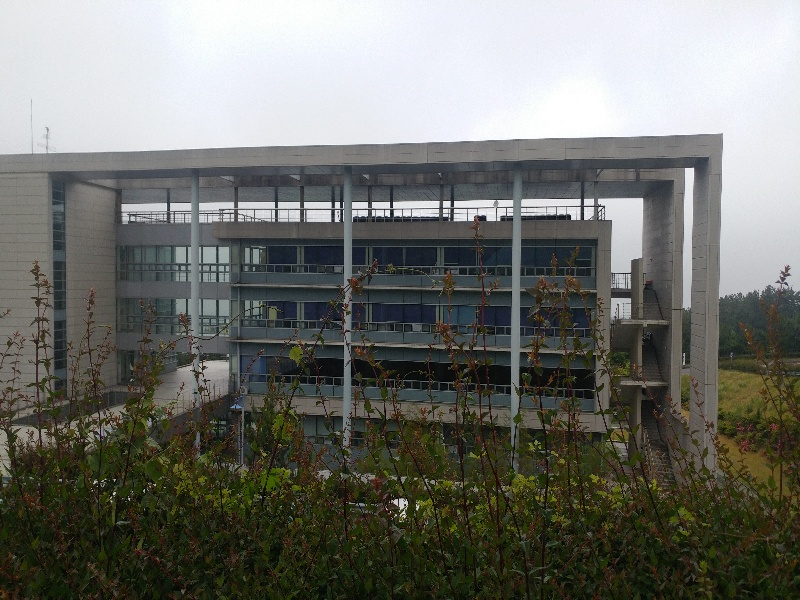Engineering College Building 4: (1, 137, 727, 447), (222, 171, 602, 405)
